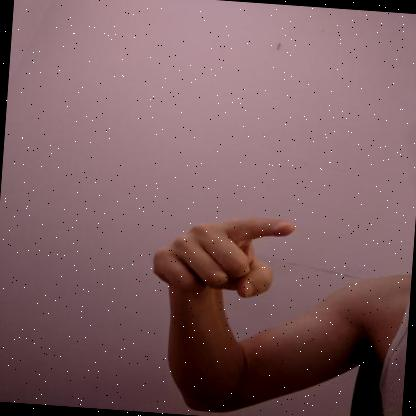Z: (153, 217, 295, 298)
